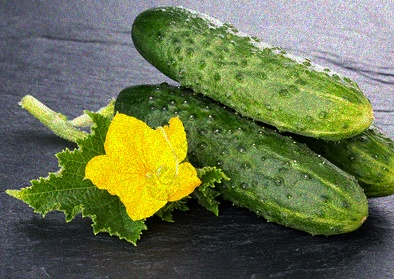cucumber: (132, 4, 373, 123)
cucumber_plant: (8, 99, 200, 239)
